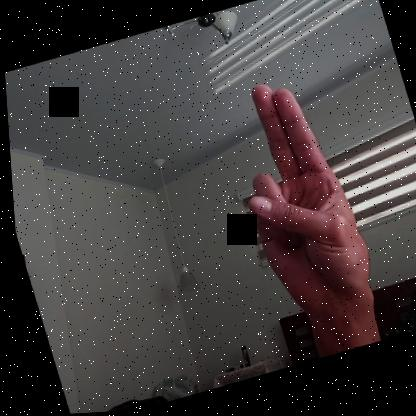U: (214, 71, 385, 337)
